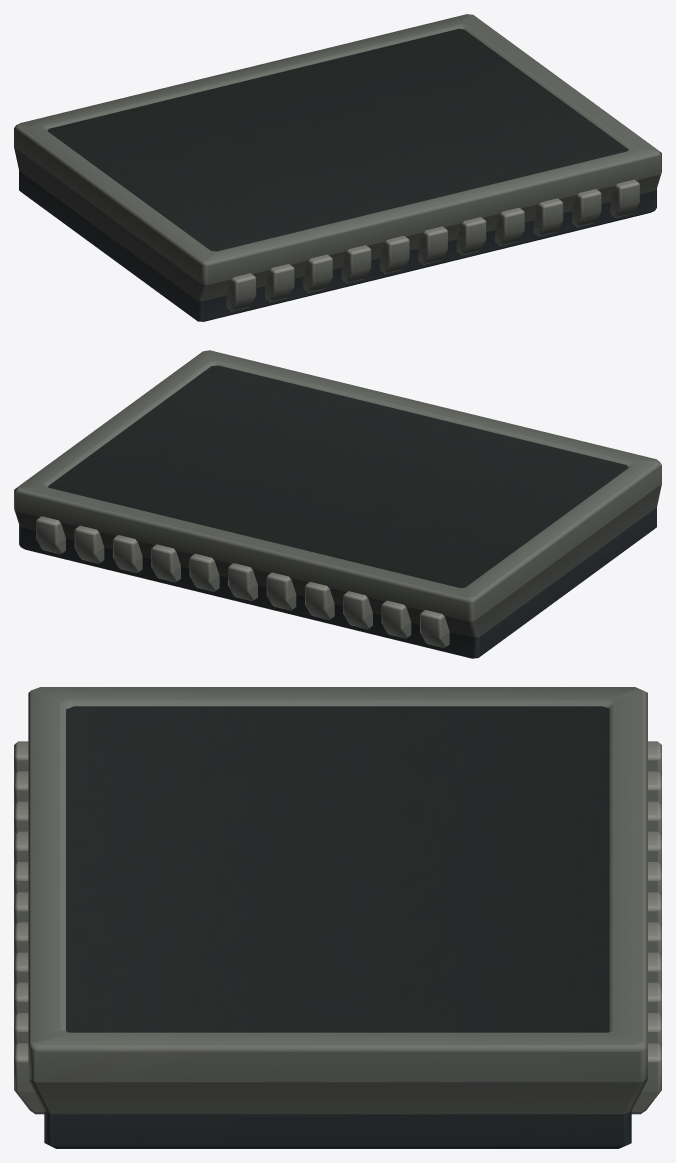
Rendered from appartment_type1_roof_type2_x6_flat_cream.fbx.
The picture shows the model from 3 angles, top to bottom: view 1: azimuth 30°, elevation 25°; view 2: azimuth 150°, elevation 25°; view 3: azimuth 270°, elevation 25°; orthographic projection. The views are drawn at different scales.
Visible parts, largest first — view 1: appartment_type1_roof_type2_x6_flat_cream; view 2: appartment_type1_roof_type2_x6_flat_cream; view 3: appartment_type1_roof_type2_x6_flat_cream.
Boxes of the visible parts, x1,y1,x2,y2 form: appartment_type1_roof_type2_x6_flat_cream: (14, 14, 661, 321); appartment_type1_roof_type2_x6_flat_cream: (14, 350, 661, 658); appartment_type1_roof_type2_x6_flat_cream: (14, 687, 661, 1148).
Size of the model in its own units: 1200 by 160 by 907.
